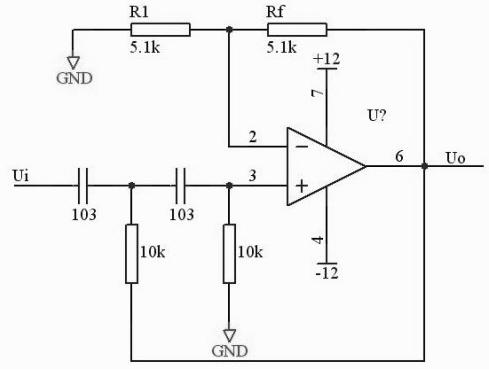amplifier: (283, 122, 369, 209)
cap1: (172, 164, 188, 207), (76, 166, 92, 206)
res1: (122, 219, 143, 289), (264, 20, 331, 40), (127, 21, 193, 39), (221, 222, 239, 287)
